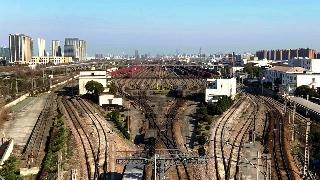train: (144, 129, 157, 142), (177, 84, 184, 96)
